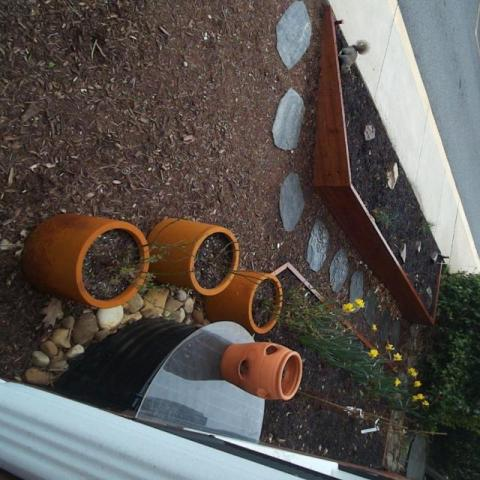small_animal: (334, 37, 372, 79)
